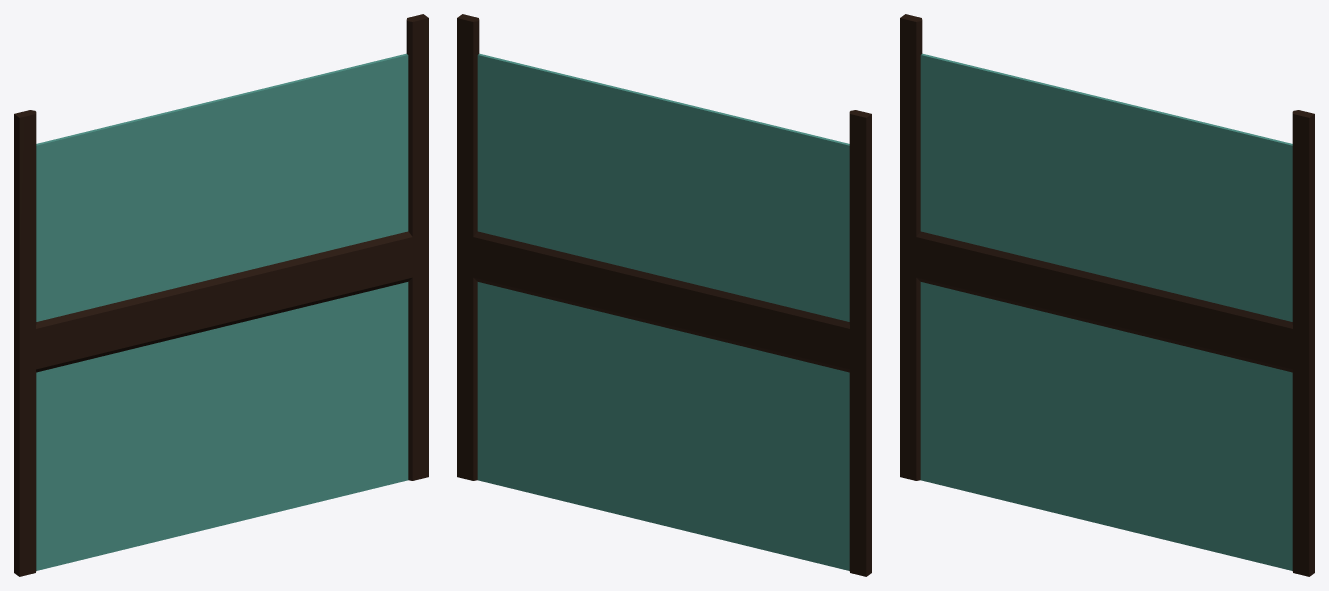
The model's file is Teplic.fbx.
The picture shows the model from 3 angles, left to right: view 1: azimuth 30°, elevation 25°; view 2: azimuth 150°, elevation 25°; view 3: azimuth 330°, elevation 25°; orthographic projection.
Visible parts, largest first — view 1: Cube.002; view 2: Cube.002; view 3: Cube.002.
Part boxes in pixels (x1,y1,x2,y2): Cube.002: (14, 14, 428, 576); Cube.002: (457, 14, 871, 576); Cube.002: (900, 14, 1314, 576).
Size of the model in its own units: 148 by 159 by 3.47.
